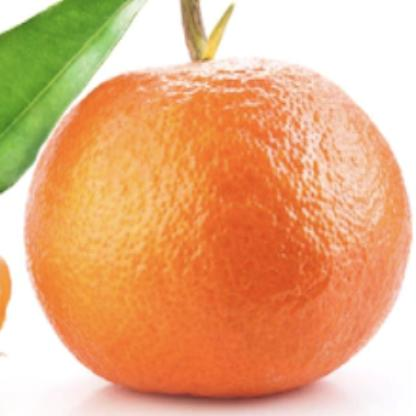fresh: (23, 53, 408, 400)
